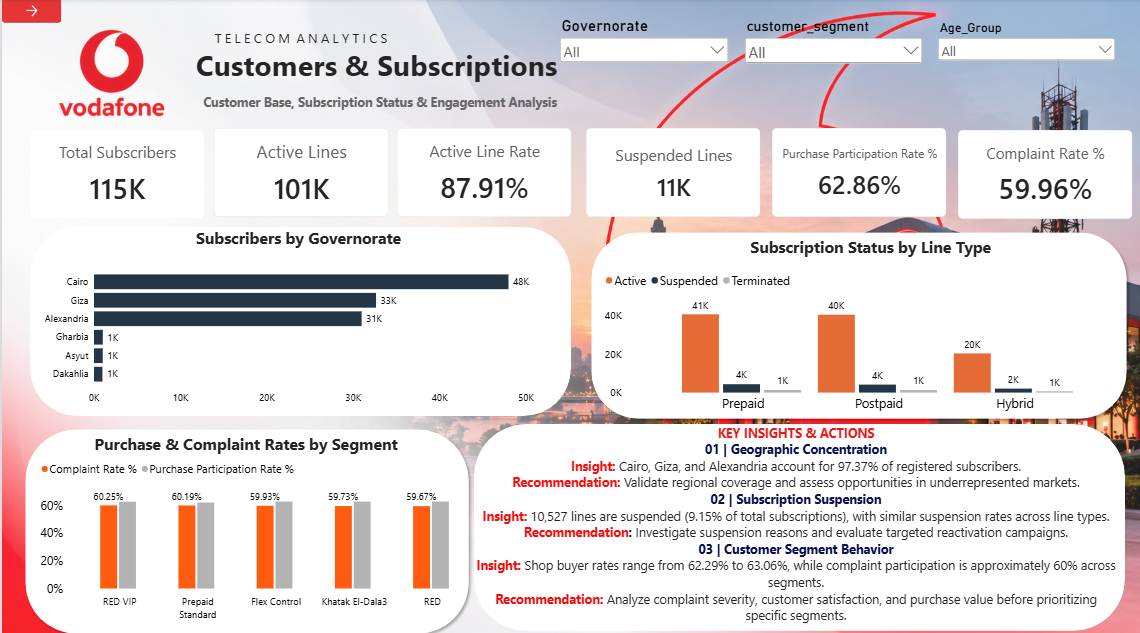

What the dashboard file says about the page in this screenshot:
{"tool":"powerbi","page":{"name":"Customers & Subscribtions","canvas":[1920,1080],"ordinal":2},"visuals":[{"type":"textbox","box":[283.5,50.6,442.1,54],"z":0},{"type":"textbox","box":[327.4,77.6,632.8,81],"z":1000},{"type":"textbox","box":[283.5,158.6,653.1,47.2],"z":2000},{"type":"cardVisual","fields":{"Data":["DAXX Measures.Total Subscribers"]},"box":[47.6,221.1,294.2,149.7],"z":3000},{"type":"cardVisual","fields":{"Data":["DAXX Measures.Active Lines"]},"box":[357.1,217.7,294,150.2],"z":4000},{"type":"cardVisual","fields":{"Data":["DAXX Measures.Active Line Rate"]},"box":[666.6,217.7,294,150.2],"z":5000},{"type":"cardVisual","fields":{"Data":["DAXX Measures.Suspended Lines"]},"box":[984.7,217.7,294,150.2],"z":6000},{"type":"cardVisual","fields":{"Data":["DAXX Measures.Purchase Participation Rate %"]},"box":[1299.3,217.7,294,150.2],"z":7000},{"type":"shape","box":[47.2,384.8,912.9,318.9],"z":8000},{"type":"textbox","box":[0,384.8,1000.7,57.4],"z":9000},{"type":"cardVisual","fields":{"Data":["DAXX Measures.Complaint Rate %"]},"box":[1613.9,221.1,294,150.2],"z":10000},{"type":"shape","box":[985.5,384.8,921.4,332.4],"z":11000},{"type":"textbox","box":[1079.9,399.6,772.1,62.9],"z":12000},{"type":"shape","box":[30.4,717.2,766.1,362.8],"z":13000},{"type":"textbox","box":[72.6,732.4,678.4,40.5],"z":14000},{"type":"shape","box":[796.5,717.2,1098.6,349.3],"z":15000},{"type":"textbox","box":[796.5,717.2,1086.8,362.8],"z":16000},{"type":"clusteredBarChart","fields":{"Category":["DimSubscriber.Governorate"],"Y":["DAXX Measures.Total Subscribers"]},"box":[47.2,430.3,872.4,273.4],"z":17000},{"type":"clusteredColumnChart","fields":{"Category":["DimSubscription.line_type"],"Series":["DimSubscription.status"],"Y":["DAXX Measures.Total Subscriptions"]},"box":[1000.7,442.1,919.7,275.1],"z":18000},{"type":"clusteredColumnChart","fields":{"Category":["DimSubscriber.customer_segment"],"Y":["DAXX Measures.Complaint Rate %","DAXX Measures.Purchase Participation Rate %"]},"box":[48.9,761.1,779.6,305.4],"z":19000},{"type":"slicer","fields":{"Values":["DimSubscriber.Governorate"]},"box":[936.6,28.7,293.6,97.9],"z":19001},{"type":"slicer","fields":{"Values":["DimSubscriber.customer_segment"]},"box":[1248.8,32.1,308.8,86.1],"z":19002},{"type":"slicer","fields":{"Values":["DimSubscriber.Age_Group"]},"box":[1574.4,35.4,308.8,91.1],"z":19003},{"type":"actionButton","box":[0,0,100,40],"z":19004},{"type":"actionButton","box":[0,0,100,40],"z":19005}]}

Visuals, with their boxes in screenshot pixels (x1, y1, x2, y2), scaled from the page's 1920x1080 canvas onto the 1140x633 screenshot:
textbox: <bbox>168, 30, 431, 61</bbox>
textbox: <bbox>194, 45, 570, 93</bbox>
textbox: <bbox>168, 93, 556, 121</bbox>
cardVisual - DAXX Measures.Total Subscribers: <bbox>28, 130, 203, 217</bbox>
cardVisual - DAXX Measures.Active Lines: <bbox>212, 128, 387, 216</bbox>
cardVisual - DAXX Measures.Active Line Rate: <bbox>396, 128, 570, 216</bbox>
cardVisual - DAXX Measures.Suspended Lines: <bbox>585, 128, 759, 216</bbox>
cardVisual - DAXX Measures.Purchase Participation Rate %: <bbox>771, 128, 946, 216</bbox>
shape: <bbox>28, 226, 570, 412</bbox>
textbox: <bbox>0, 226, 594, 259</bbox>
cardVisual - DAXX Measures.Complaint Rate %: <bbox>958, 130, 1133, 218</bbox>
shape: <bbox>585, 226, 1132, 420</bbox>
textbox: <bbox>641, 234, 1100, 271</bbox>
shape: <bbox>18, 420, 473, 632</bbox>
textbox: <bbox>43, 429, 446, 453</bbox>
shape: <bbox>473, 420, 1125, 625</bbox>
textbox: <bbox>473, 420, 1118, 632</bbox>
clusteredBarChart - DimSubscriber.Governorate x DAXX Measures.Total Subscribers: <bbox>28, 252, 546, 412</bbox>
clusteredColumnChart - DimSubscription.line_type x DimSubscription.status: <bbox>594, 259, 1139, 420</bbox>
clusteredColumnChart - DimSubscriber.customer_segment x DAXX Measures.Complaint Rate %: <bbox>29, 446, 492, 625</bbox>
slicer - DimSubscriber.Governorate: <bbox>556, 17, 730, 74</bbox>
slicer - DimSubscriber.customer_segment: <bbox>741, 19, 925, 69</bbox>
slicer - DimSubscriber.Age_Group: <bbox>935, 21, 1118, 74</bbox>
actionButton: <bbox>0, 0, 59, 23</bbox>
actionButton: <bbox>0, 0, 59, 23</bbox>
